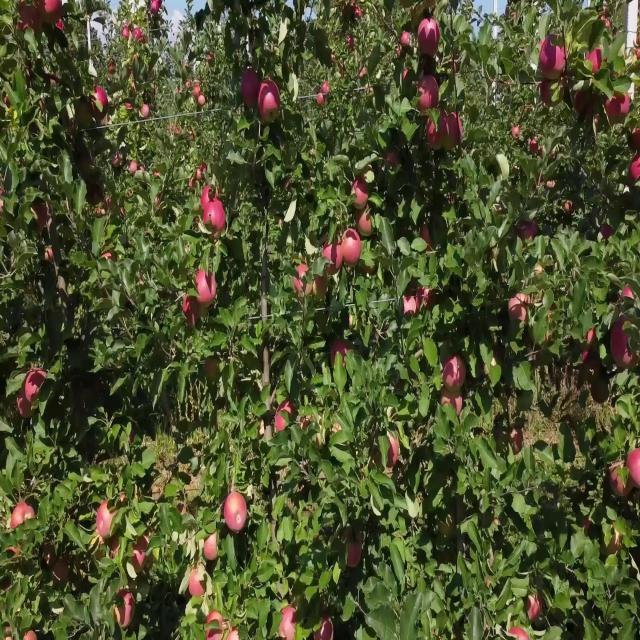apple: (224, 490, 248, 533), (376, 433, 400, 473), (444, 355, 468, 391), (204, 199, 227, 235), (20, 0, 43, 36), (116, 590, 136, 631), (344, 227, 363, 268), (260, 85, 280, 123), (12, 504, 36, 535), (96, 504, 117, 539), (428, 113, 447, 151), (420, 21, 440, 57), (196, 270, 216, 306), (612, 462, 632, 498), (324, 241, 344, 277), (508, 291, 531, 322), (28, 369, 48, 404), (440, 391, 464, 418), (420, 78, 440, 110), (612, 319, 628, 359), (244, 71, 261, 108), (40, 0, 63, 25), (448, 113, 464, 148), (516, 220, 539, 244), (276, 405, 295, 434), (540, 42, 556, 76), (604, 526, 622, 556), (584, 49, 604, 76), (616, 348, 640, 370), (352, 177, 369, 208), (360, 250, 379, 277), (528, 590, 544, 622), (296, 263, 311, 297), (280, 611, 298, 639), (628, 447, 640, 489), (188, 568, 205, 597), (592, 376, 609, 405), (184, 298, 202, 325), (16, 391, 32, 420), (348, 540, 364, 569), (208, 611, 225, 638), (604, 99, 621, 126), (612, 334, 629, 361), (32, 206, 50, 231), (28, 7, 43, 36), (92, 85, 108, 112), (332, 341, 349, 366), (52, 561, 71, 583), (204, 533, 218, 562), (420, 291, 438, 313), (356, 213, 373, 236), (316, 618, 334, 639), (20, 7, 36, 30), (312, 277, 328, 299), (384, 149, 400, 171), (132, 547, 145, 574), (540, 78, 552, 107), (512, 426, 524, 455), (576, 92, 590, 116), (524, 220, 539, 242), (80, 99, 93, 124), (620, 92, 632, 119), (32, 7, 43, 36), (404, 298, 419, 318), (204, 362, 219, 382), (440, 519, 455, 539), (584, 106, 599, 126), (44, 540, 55, 567), (136, 533, 150, 553), (508, 625, 528, 639), (600, 7, 612, 30), (400, 35, 412, 57), (556, 49, 567, 73), (356, 213, 368, 235), (64, 113, 76, 135), (204, 184, 215, 206), (196, 163, 208, 183), (540, 177, 556, 192), (420, 227, 432, 247), (624, 284, 636, 302), (364, 263, 379, 277), (632, 127, 640, 153), (632, 156, 640, 181), (112, 533, 120, 556), (588, 327, 597, 347), (152, 0, 163, 16), (604, 227, 615, 242), (128, 426, 136, 446), (300, 419, 310, 434), (584, 348, 591, 368), (584, 519, 592, 535), (536, 263, 545, 277), (136, 28, 144, 43), (144, 106, 152, 121), (48, 248, 55, 263), (532, 142, 539, 156), (124, 28, 131, 41), (104, 255, 115, 263), (56, 21, 64, 32), (196, 85, 201, 98)
